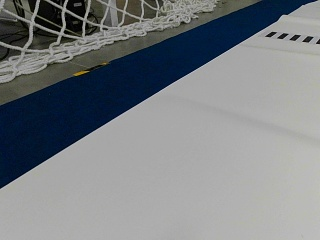crosswalk: (265, 30, 318, 43)
